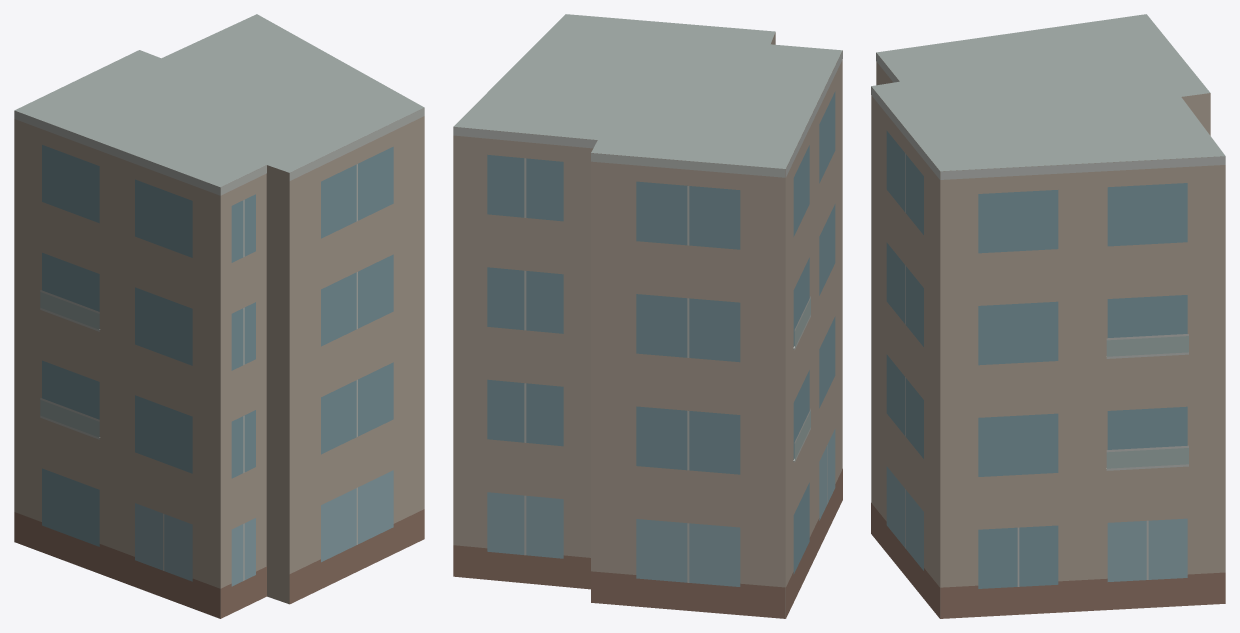
The model's file is survey-upis-32502064.glb.
3 views of the same model, side by side, from view 1: azimuth 30°, elevation 25°; view 2: azimuth 150°, elevation 25°; view 3: azimuth 270°, elevation 25° (orthographic). The views are drawn at different scales.
Visible parts, largest first — view 1: survey-upis-32502064.tmp; view 2: survey-upis-32502064.tmp; view 3: survey-upis-32502064.tmp.
Part boxes in pixels (x1,y1,x2,y2): survey-upis-32502064.tmp: [14, 14, 424, 618]; survey-upis-32502064.tmp: [453, 14, 842, 618]; survey-upis-32502064.tmp: [871, 14, 1225, 618].
Bounding box in the file's own units: 9.43 × 12.5 × 8.98.
